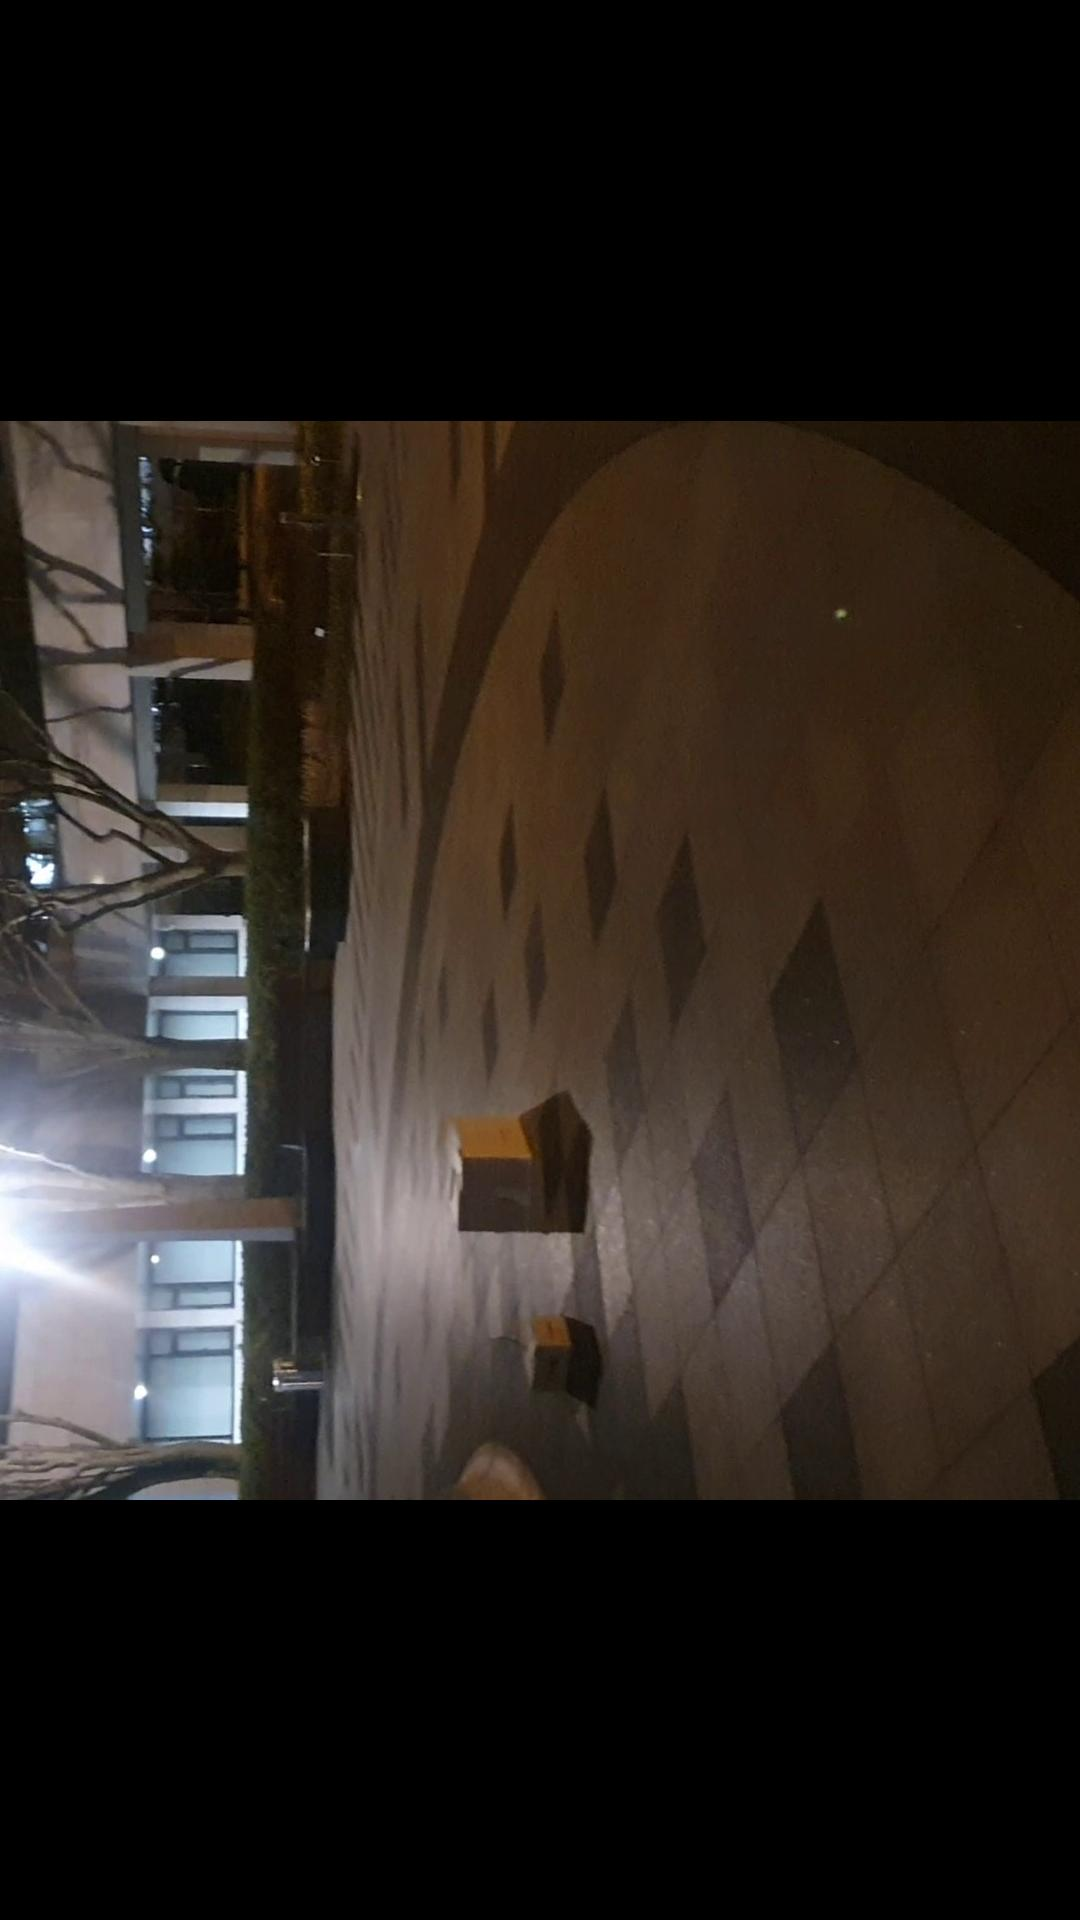Box: (440, 1116, 547, 1237), (518, 1320, 575, 1389)
